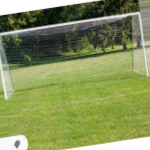goals: (1, 10, 150, 103)
